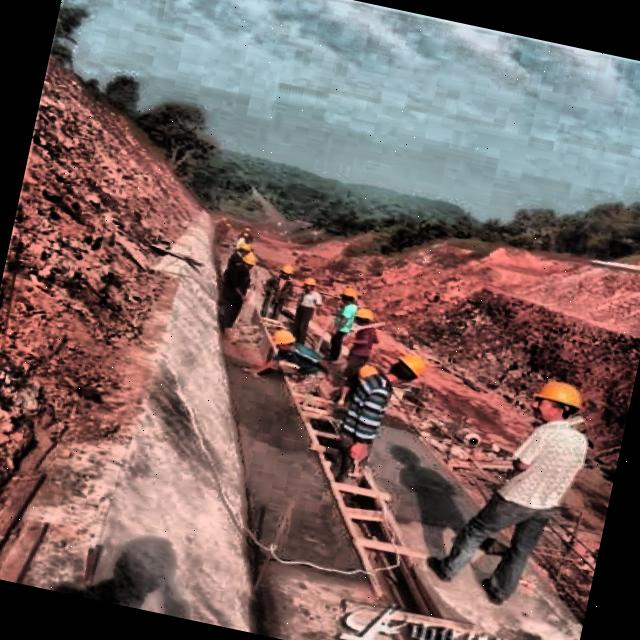helmet: (530, 374, 588, 430), (380, 344, 434, 386), (266, 323, 310, 362), (346, 302, 384, 331), (334, 282, 370, 312), (236, 247, 262, 276), (270, 259, 300, 282), (298, 272, 322, 294)
